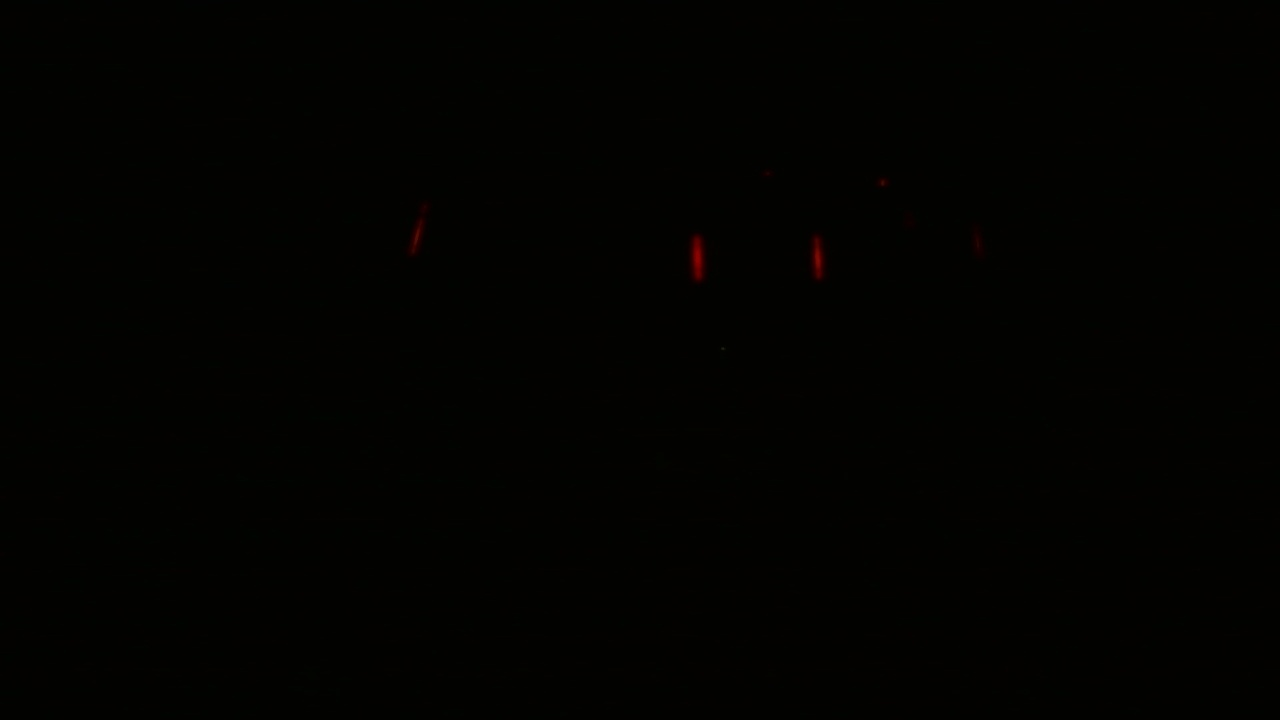pair1: (688, 230, 829, 286)
